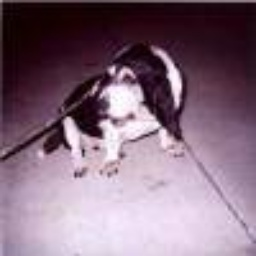dog: (43, 35, 188, 177)
